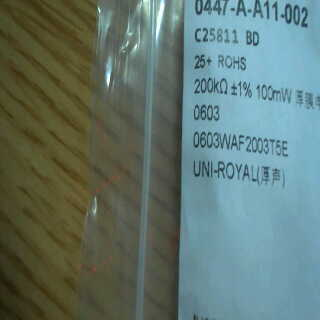200kR: (183, 74, 231, 95)
